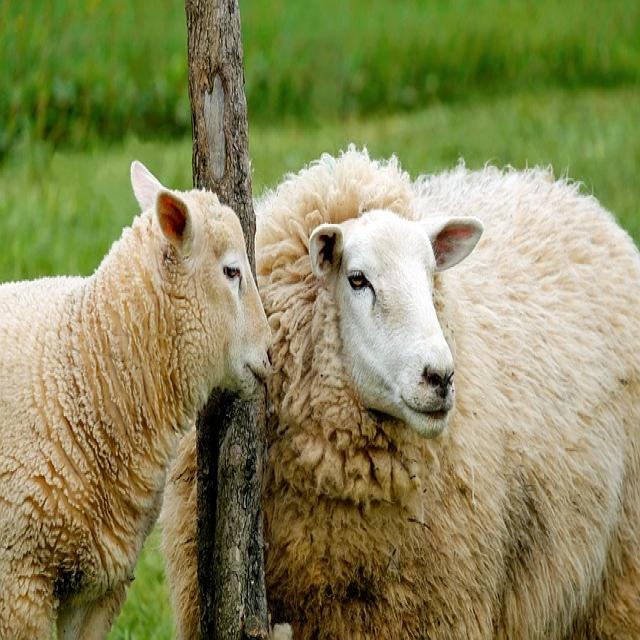goat: (258, 146, 640, 639), (0, 161, 270, 639)
